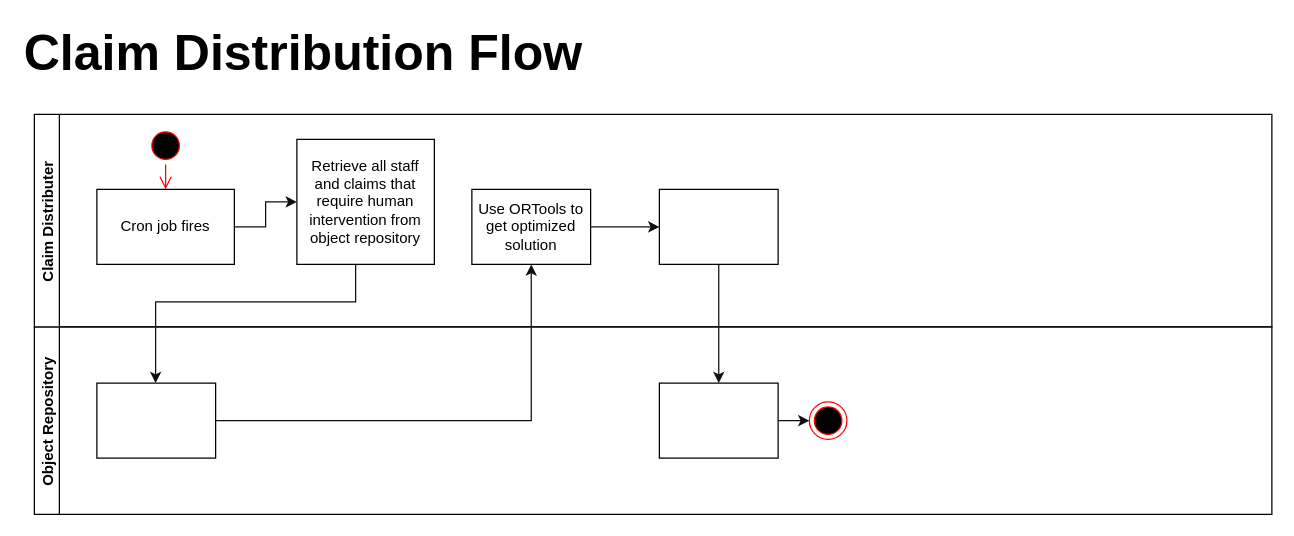
This 1294x536 diagram has some shape labels left out. Here are the shapes that lost their labels. From the top down, the centre of each, then its label:
the point at 718,226: Assign staff to claims and update object repository
the point at 156,420: Return all staff and claims
the point at 718,420: Save assignment to database
